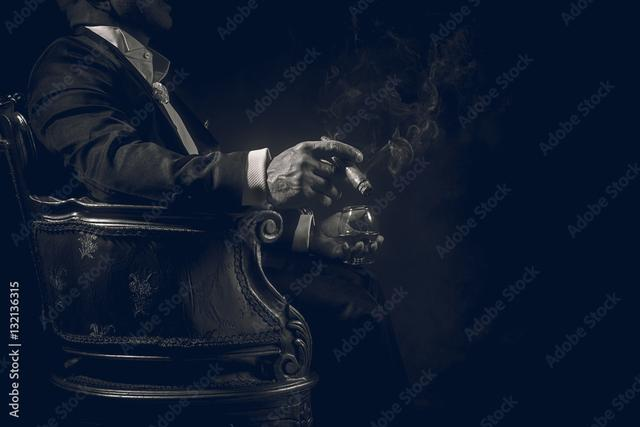Cigar: (318, 134, 373, 195)
